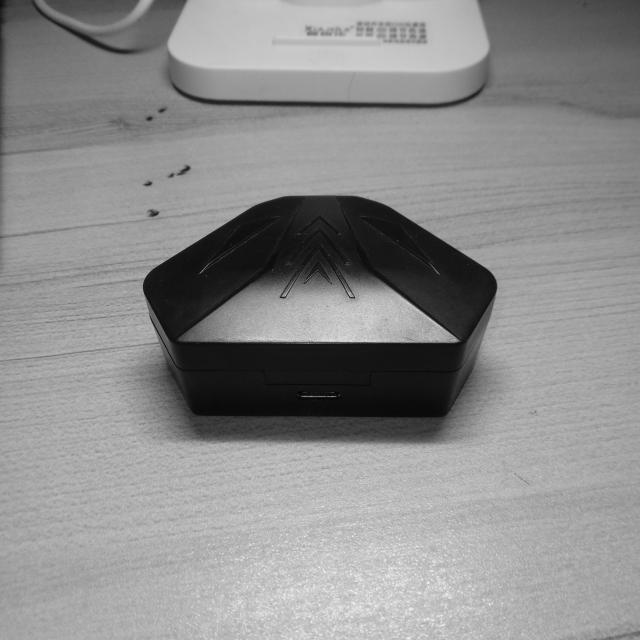earpods: (135, 187, 504, 428)
